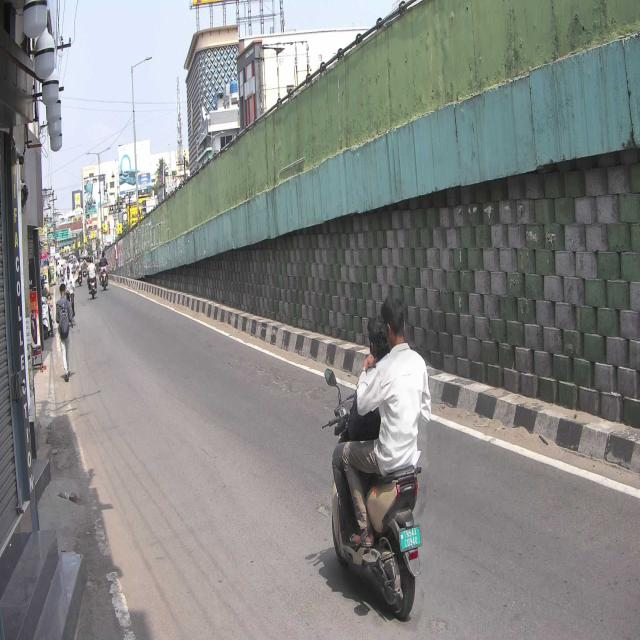double_rider: (322, 290, 431, 622)
